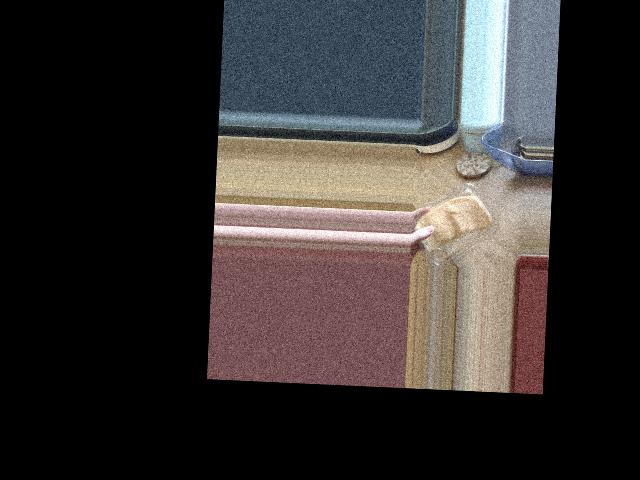cheese: (416, 173, 510, 267)
